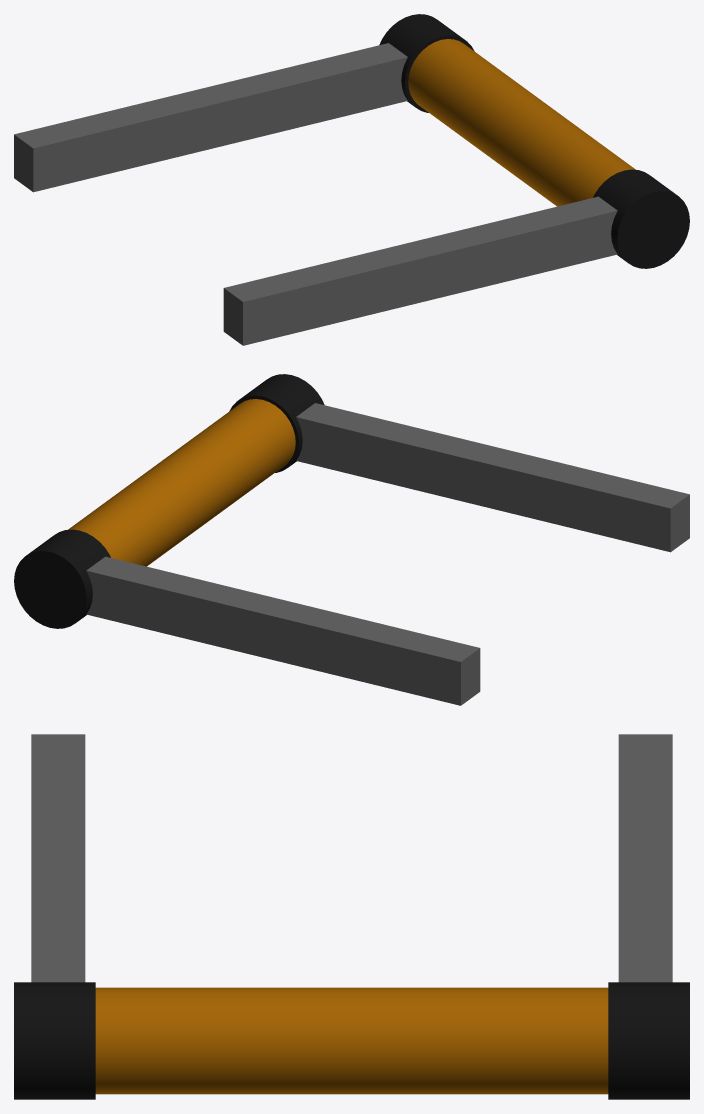
Rendered from switch2.fbx.
The picture shows the model from 3 angles, top to bottom: view 1: azimuth 30°, elevation 25°; view 2: azimuth 150°, elevation 25°; view 3: azimuth 270°, elevation 25°; orthographic projection. The views are drawn at different scales.
Parts seen in each view (by area): view 1: switch2; view 2: switch2; view 3: switch2.
Boxes of the visible parts, x1=… form: switch2: x1=14, y1=14, x2=689, y2=345; switch2: x1=14, y1=374, x2=689, y2=705; switch2: x1=14, y1=734, x2=689, y2=1099.
Size of the model in its own units: 148 by 24.37 by 140.
